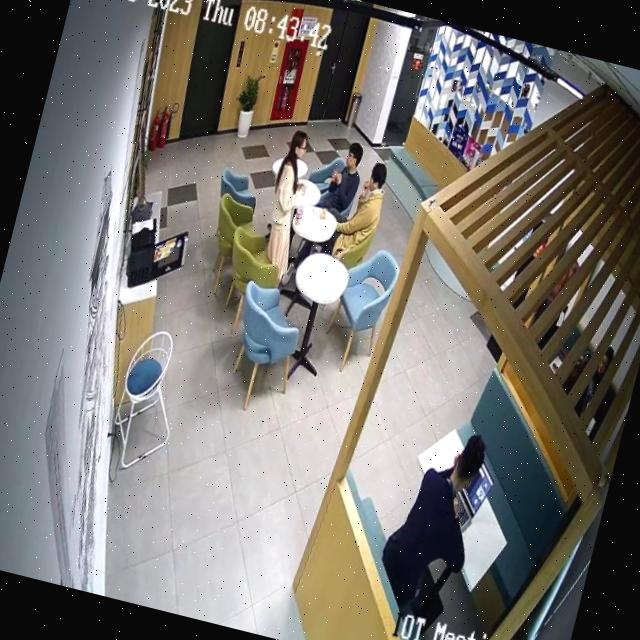person: (364, 418, 502, 640), (252, 128, 321, 287), (327, 155, 395, 270), (316, 137, 370, 221), (573, 342, 618, 426)
